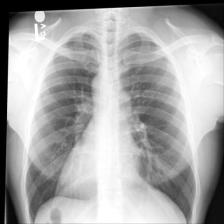normal: (19, 26, 199, 224)
